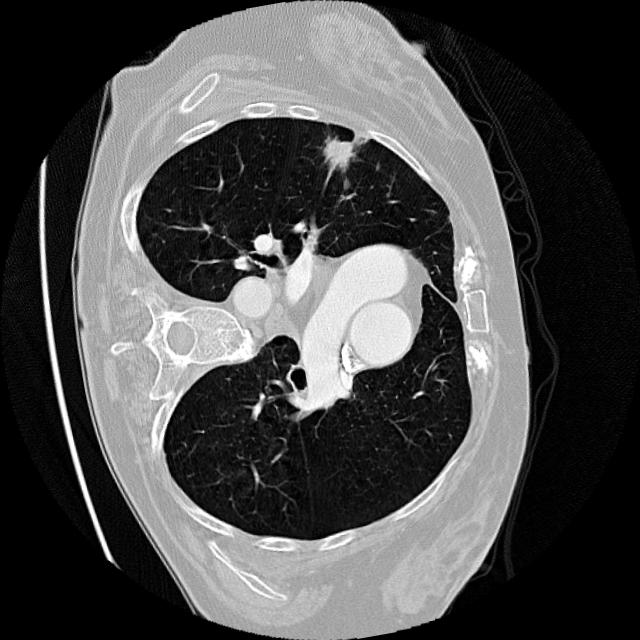nodule: (303, 111, 382, 190)
